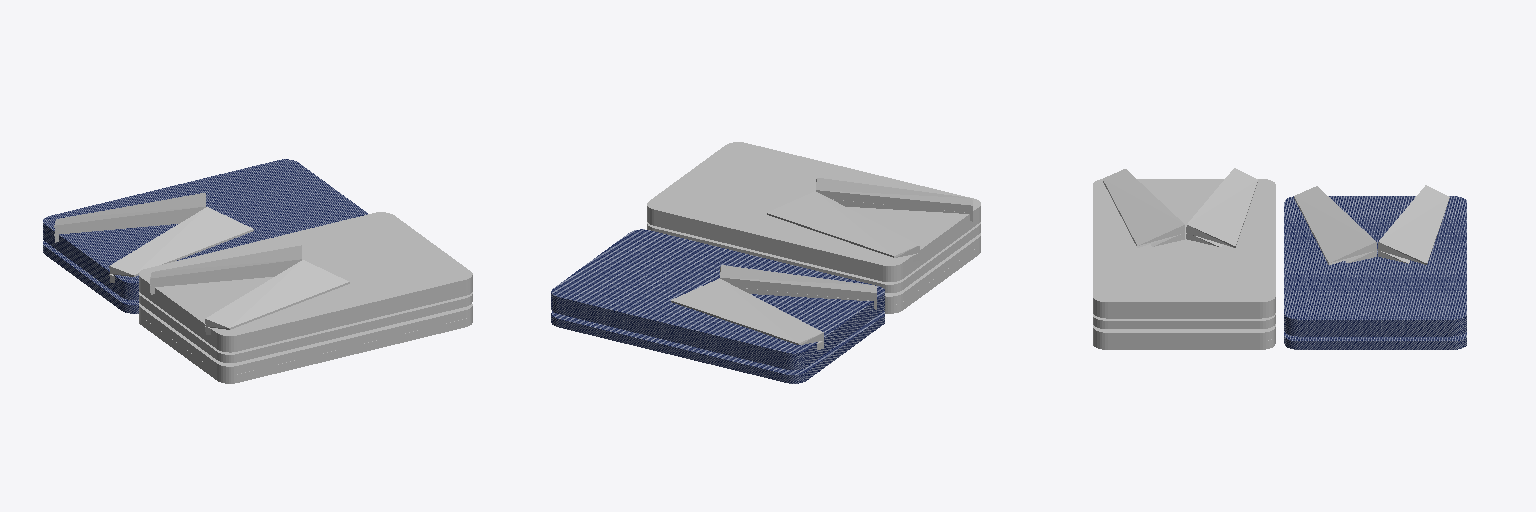
3 renders of one model, left to right at view 1: azimuth 30°, elevation 25°; view 2: azimuth 150°, elevation 25°; view 3: azimuth 270°, elevation 25°, orthographic.
Visible parts, largest first — view 1: Cube.099, Cube.108, Cube.100, Cube.109, Cube.111, Cube.113, Cube.094, Cube.101, Cube.096, Cube.097; view 2: Cube.108, Cube.099, Cube.109, Cube.100, Cube.096, Cube.097, Cube.101, Cube.113, Cube.111, Cube.094, Cube.102; view 3: Cube.108, Cube.099, Cube.109, Cube.100, Cube.096, Cube.111, Cube.113, Cube.094, Cube.097, Cube.101.
Part boxes in pixels (x1,y1,x2,y2): Cube.099: (139,212,472,343); Cube.108: (43,159,367,291); Cube.100: (150,245,349,329); Cube.109: (54,193,253,276); Cube.111: (139,303,472,374); Cube.113: (139,292,472,362); Cube.094: (139,314,472,383); Cube.101: (139,283,472,352); Cube.096: (43,241,138,313); Cube.097: (43,231,138,299); Cube.108: (551,229,884,361); Cube.099: (647,142,980,273); Cube.109: (671,265,876,344); Cube.100: (767,178,972,257); Cube.096: (551,311,884,383); Cube.097: (551,301,884,369); Cube.101: (647,213,980,281); Cube.113: (647,222,980,292); Cube.111: (885,233,980,304); Cube.094: (884,245,980,313); Cube.102: (832,199,972,261); Cube.108: (1284,196,1466,327); Cube.099: (1093,179,1275,310); Cube.109: (1294,185,1449,264); Cube.100: (1103,168,1257,247); Cube.096: (1284,331,1466,349); Cube.111: (1093,324,1275,340); Cube.113: (1093,313,1275,328); Cube.094: (1093,336,1275,349); Cube.097: (1284,322,1466,336); Cube.101: (1093,304,1275,318).
Size of the model in its own units: 0.3255 by 0.0755 by 0.41.
Materials: 3 (1 with a texture image).